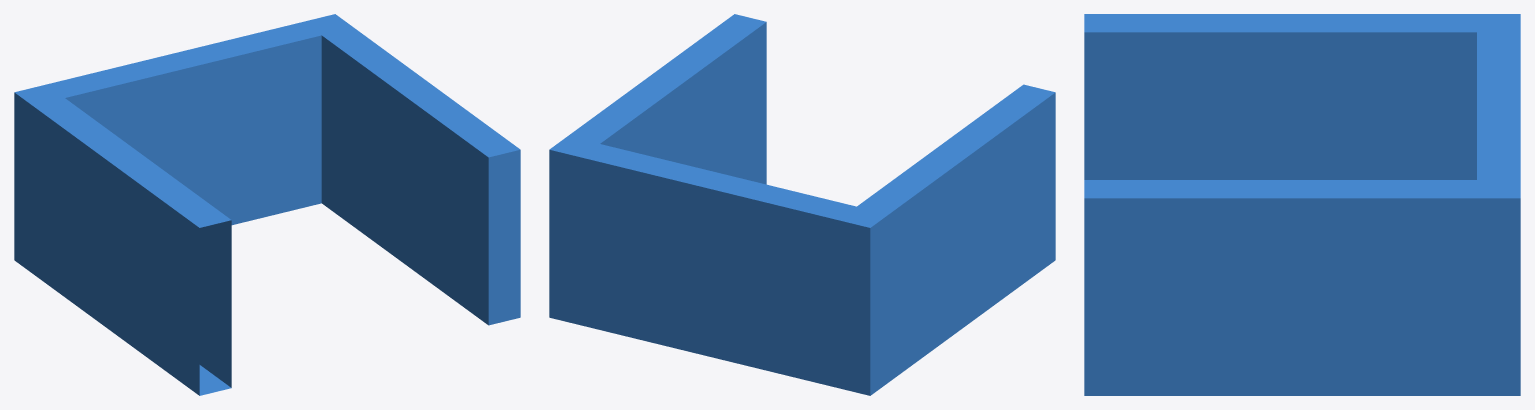
Rendered from Collision_Stairs_Exterior_SidesU.fbx.
3 renders of one model, left to right at view 1: azimuth 30°, elevation 25°; view 2: azimuth 150°, elevation 25°; view 3: azimuth 270°, elevation 25°, orthographic. The views are drawn at different scales.
Parts seen in each view (by area): view 1: UCX_Stairs_Exterior_SidesU_1; view 2: UCX_Stairs_Exterior_SidesU_1; view 3: UCX_Stairs_Exterior_SidesU_1.
Part boxes in pixels (x1=…): UCX_Stairs_Exterior_SidesU_1: x1=14, y1=14, x2=520, y2=395; UCX_Stairs_Exterior_SidesU_1: x1=549, y1=14, x2=1055, y2=395; UCX_Stairs_Exterior_SidesU_1: x1=1084, y1=14, x2=1520, y2=395.
Size of the model in its own units: 200 by 100 by 200.
